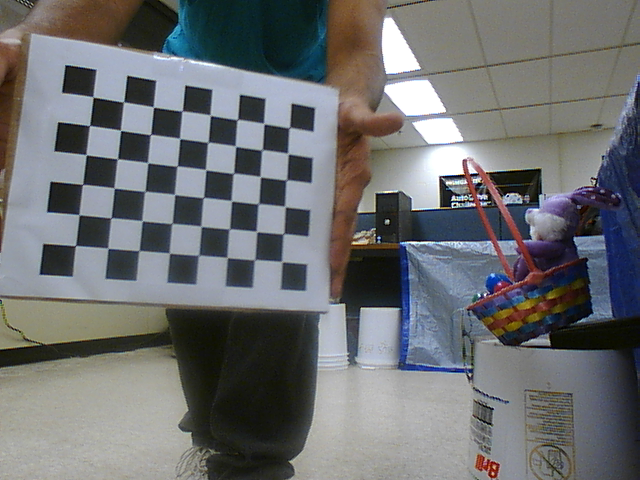bunny: (455, 153, 602, 345)
